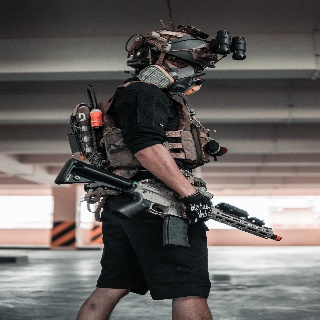rifle: (54, 157, 283, 248)
